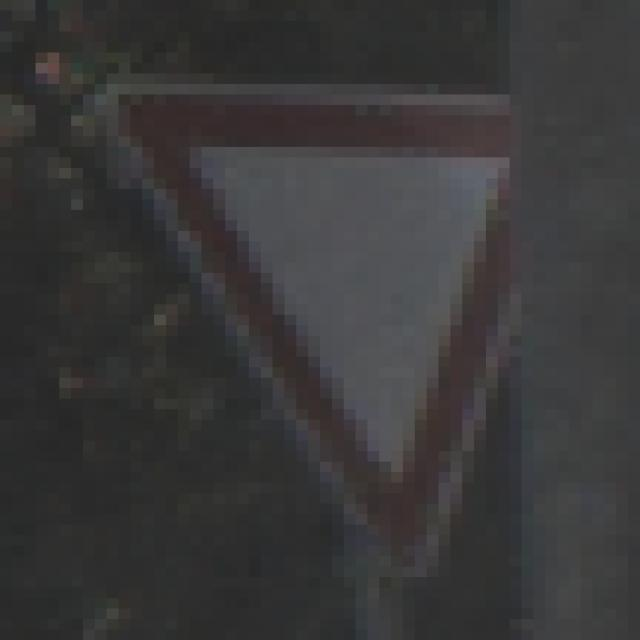Give Way: (72, 64, 582, 588)
